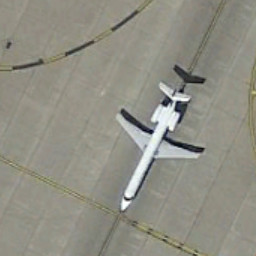Airplane: (109, 76, 206, 219)
